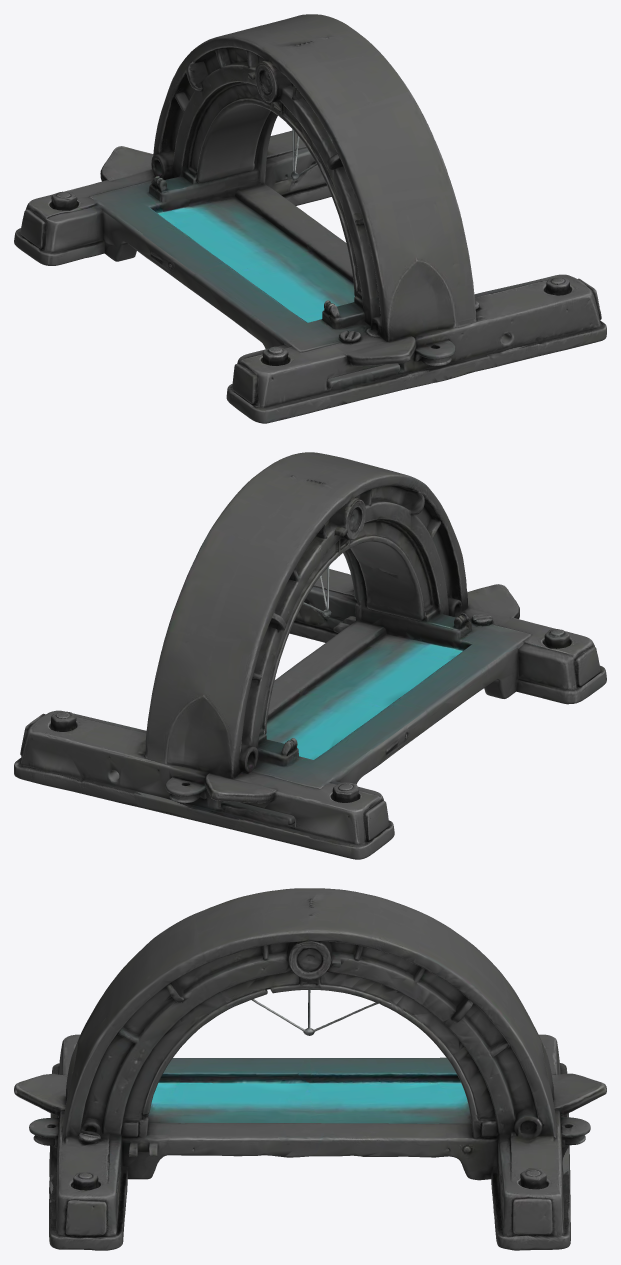
File: lab.glb
3 views of the same model, one above another, from view 1: azimuth 30°, elevation 25°; view 2: azimuth 150°, elevation 25°; view 3: azimuth 270°, elevation 25° (orthographic). The views are drawn at different scales.
Parts seen in each view (by area): view 1: tripo_node_e5ef9bd8-2306-47b1-972b-bae189b5f3bd; view 2: tripo_node_e5ef9bd8-2306-47b1-972b-bae189b5f3bd; view 3: tripo_node_e5ef9bd8-2306-47b1-972b-bae189b5f3bd.
Part boxes in pixels (x1=…): tripo_node_e5ef9bd8-2306-47b1-972b-bae189b5f3bd: x1=14, y1=14, x2=606, y2=423; tripo_node_e5ef9bd8-2306-47b1-972b-bae189b5f3bd: x1=14, y1=452, x2=606, y2=859; tripo_node_e5ef9bd8-2306-47b1-972b-bae189b5f3bd: x1=14, y1=888, x2=606, y2=1250.
Size of the model in its own units: 0.7095 by 0.4807 by 0.9999.
1 material, 1 textured.
